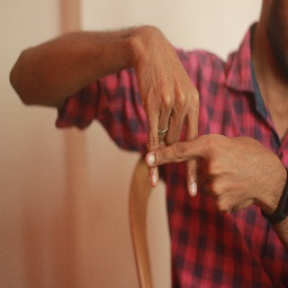H: (116, 84, 230, 229)
